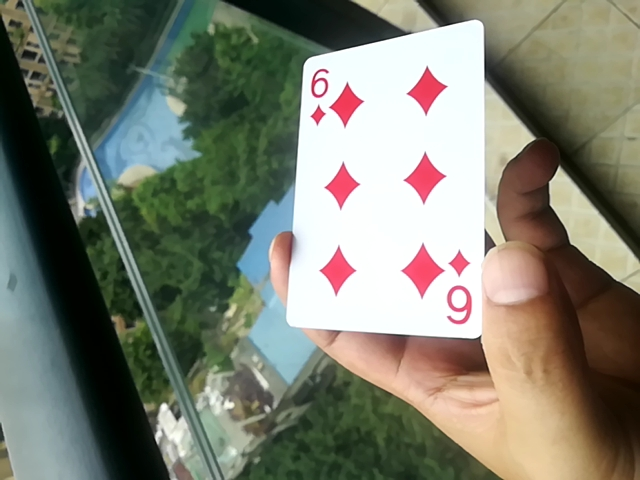fk 6: (273, 16, 491, 338)
